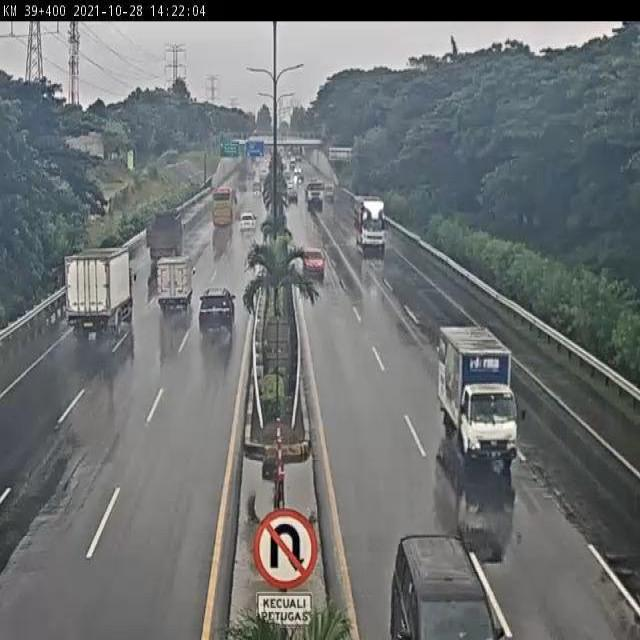big bus: (209, 184, 241, 232)
big truck: (354, 193, 389, 252)
car: (200, 290, 234, 334), (300, 244, 327, 279), (236, 210, 258, 238)
truck-m-: (66, 247, 135, 336), (143, 208, 187, 268)
truck-s-: (436, 323, 518, 469), (155, 254, 194, 310)
